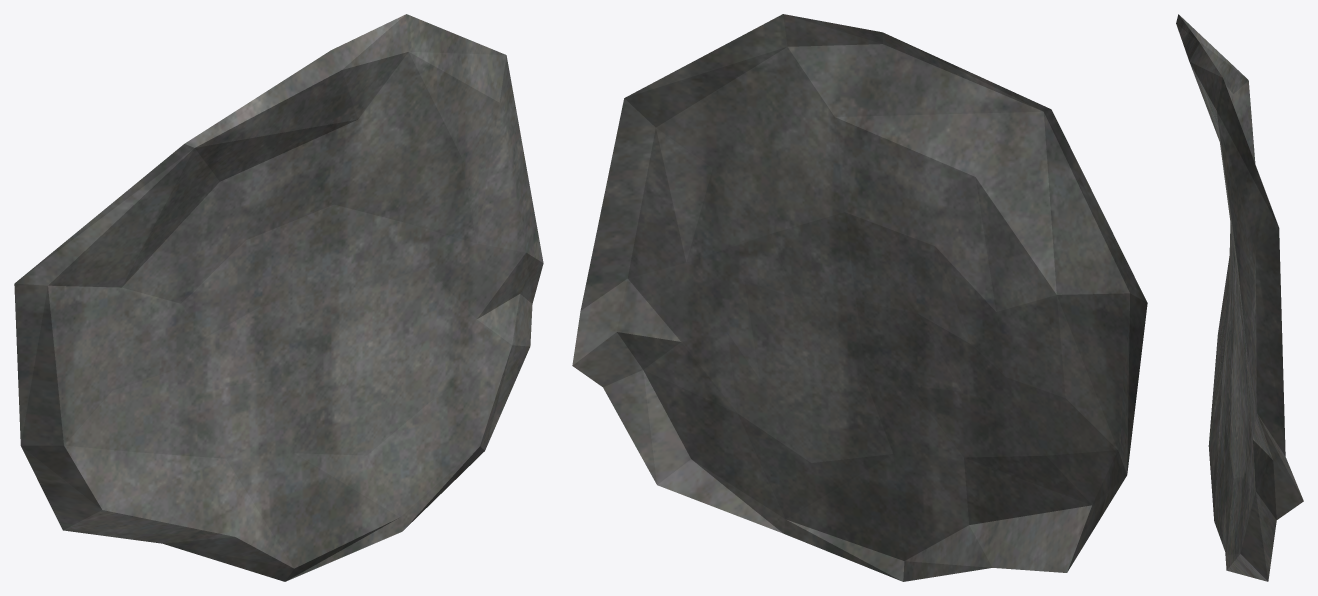
Rendered from WaterfallCaveNoBreakCover.dae.
3 renders of one model, left to right at view 1: azimuth 30°, elevation 25°; view 2: azimuth 150°, elevation 25°; view 3: azimuth 270°, elevation 25°, orthographic. The views are drawn at different scales.
Visible parts, largest first — view 1: m0; view 2: m0; view 3: m0.
Boxes of the visible parts, x1=… form: m0: x1=14, y1=14, x2=543, y2=581; m0: x1=572, y1=14, x2=1147, y2=581; m0: x1=1176, y1=14, x2=1303, y2=581.
Bounding box in the file's own units: 1236 × 1160 × 262.
1 material, 1 textured.
